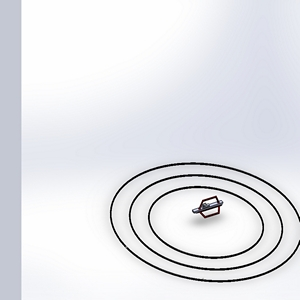circle: (103, 156, 300, 287)
submarine: (181, 193, 227, 222)
